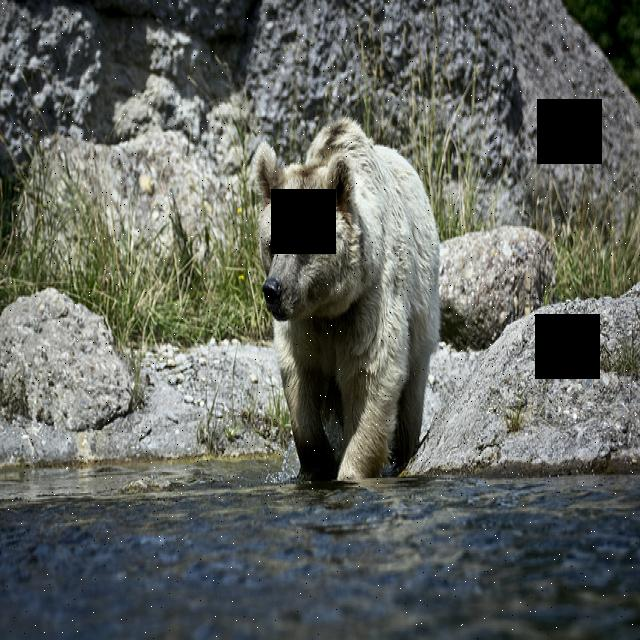Bear: (258, 108, 442, 491)
